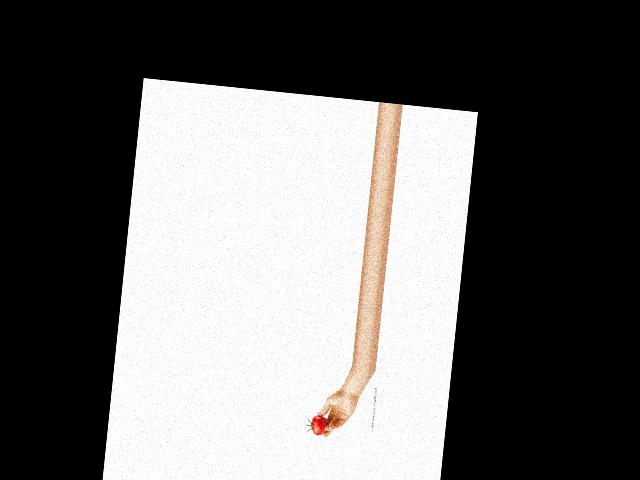tomato: (310, 414, 329, 435)
